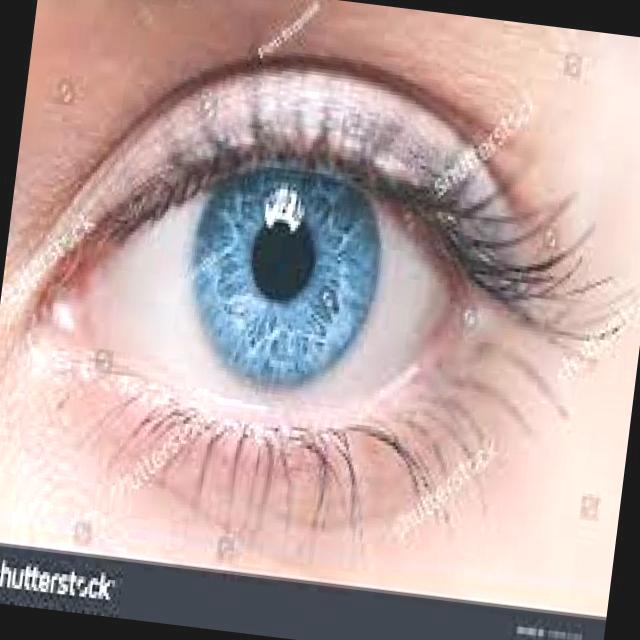Normal: (0, 126, 635, 507)
